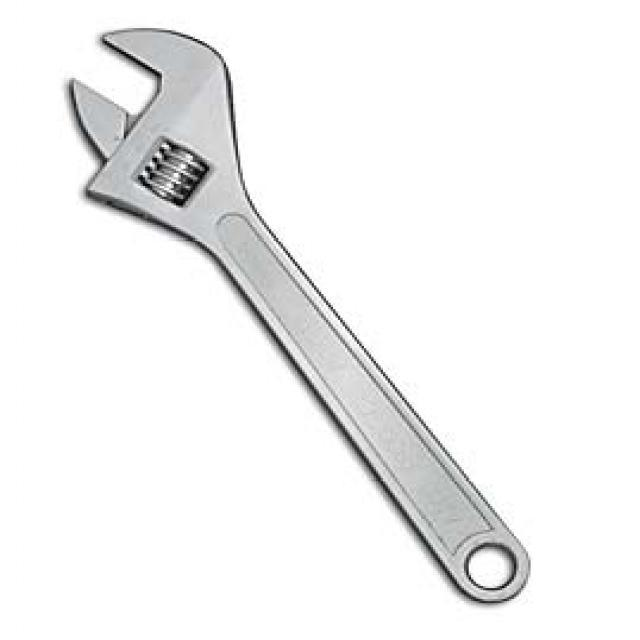wrench: (54, 16, 538, 614)
